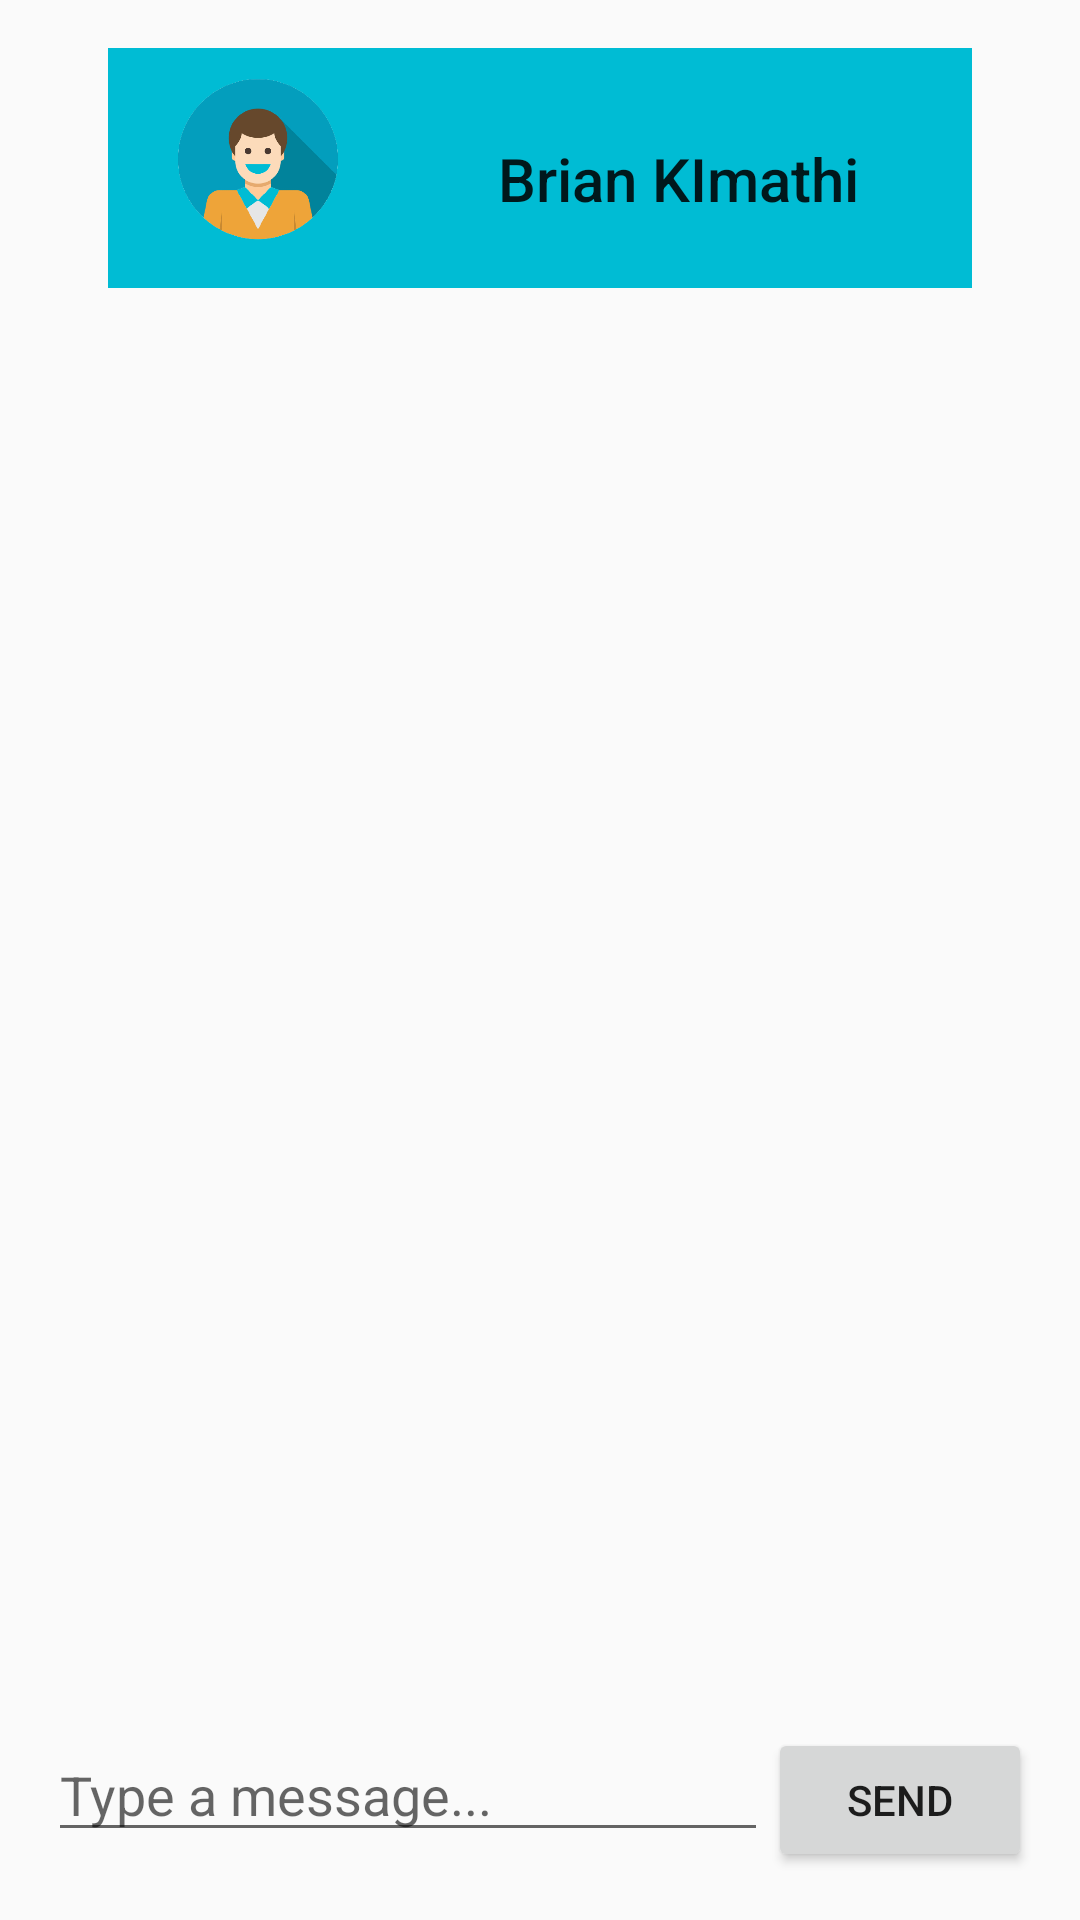

Named icons in this screenshot (1080 × 1920) and their centers, [x,y]:
usercard: [258,168]
